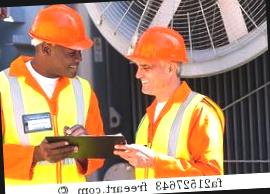helmet: (21, 2, 97, 57), (120, 23, 190, 72)
person: (101, 20, 232, 180), (0, 1, 113, 182)
